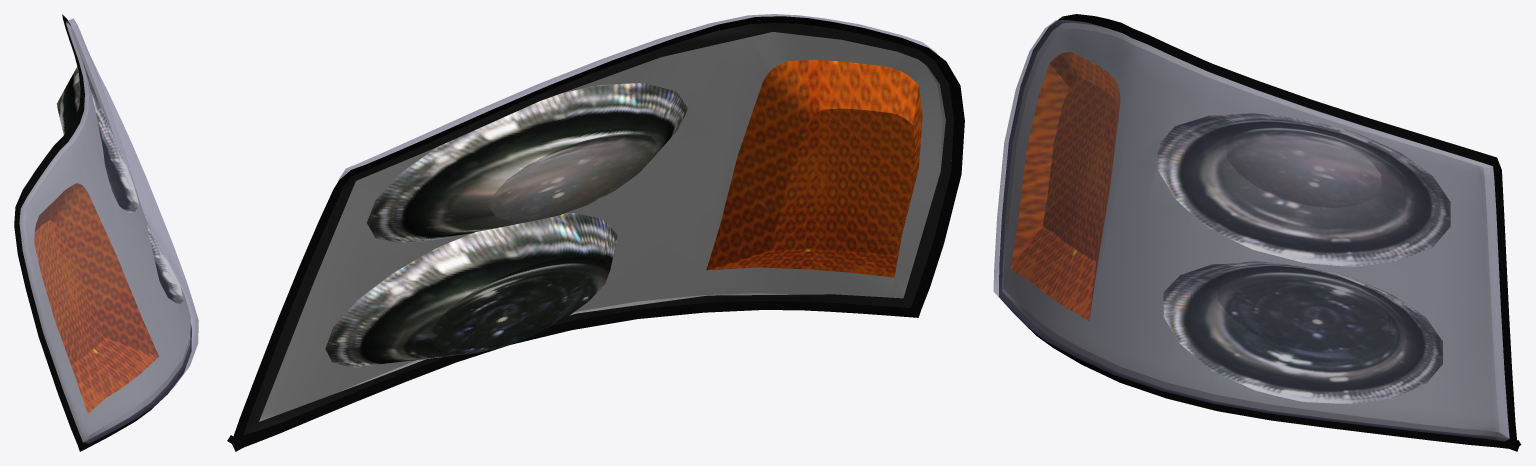
3 views of the same model, side by side, from view 1: azimuth 30°, elevation 25°; view 2: azimuth 150°, elevation 25°; view 3: azimuth 270°, elevation 25° (orthographic). The views are drawn at different scales.
Parts seen in each view (by area): view 1: U721_061B_R_1_DTaSI_U721_061B_R, U721_061B_R_U721_061B_R_3_DaS, U721_061B_R_U721_061B_R_4_N, U721_061B_R_U721_061B_R_7_D, U721_061B_R_U721_061B_R_6_N, U721_061B_R_U721_061B_R_2_N; view 2: U721_061B_R_U721_061B_R_3_DaS, U721_061B_R_U721_061B_R_4_N, U721_061B_R_U721_061B_R_6_N, U721_061B_R_U721_061B_R_2_N, U721_061B_R_U721_061B_R_7_D, U721_061B_R_U721_061B_R_5_D, U721_061B_R_1_DTaSI_U721_061B_R; view 3: U721_061B_R_1_DTaSI_U721_061B_R, U721_061B_R_U721_061B_R_3_DaS, U721_061B_R_U721_061B_R_6_N, U721_061B_R_U721_061B_R_2_N, U721_061B_R_U721_061B_R_4_N, U721_061B_R_U721_061B_R_7_D.
Part boxes in pixels (x1,y1,x2,y2): U721_061B_R_1_DTaSI_U721_061B_R: (19,18,198,443); U721_061B_R_U721_061B_R_3_DaS: (19,22,190,441); U721_061B_R_U721_061B_R_4_N: (34,183,158,413); U721_061B_R_U721_061B_R_7_D: (14,14,191,451); U721_061B_R_U721_061B_R_6_N: (57,59,138,212); U721_061B_R_U721_061B_R_2_N: (146,221,183,304); U721_061B_R_U721_061B_R_3_DaS: (259,32,945,421); U721_061B_R_U721_061B_R_4_N: (706,59,922,277); U721_061B_R_U721_061B_R_6_N: (367,83,688,243); U721_061B_R_U721_061B_R_2_N: (325,213,617,367); U721_061B_R_U721_061B_R_7_D: (227,16,964,451); U721_061B_R_U721_061B_R_5_D: (243,22,953,434); U721_061B_R_1_DTaSI_U721_061B_R: (337,14,936,182); U721_061B_R_1_DTaSI_U721_061B_R: (993,20,1509,441); U721_061B_R_U721_061B_R_3_DaS: (1002,22,1509,438); U721_061B_R_U721_061B_R_6_N: (1157,113,1450,266); U721_061B_R_U721_061B_R_2_N: (1163,261,1442,404); U721_061B_R_U721_061B_R_4_N: (1010,52,1120,320); U721_061B_R_U721_061B_R_7_D: (999,14,1521,451).
Bounding box in the file's own units: 36.67 × 27.48 × 44.79.
